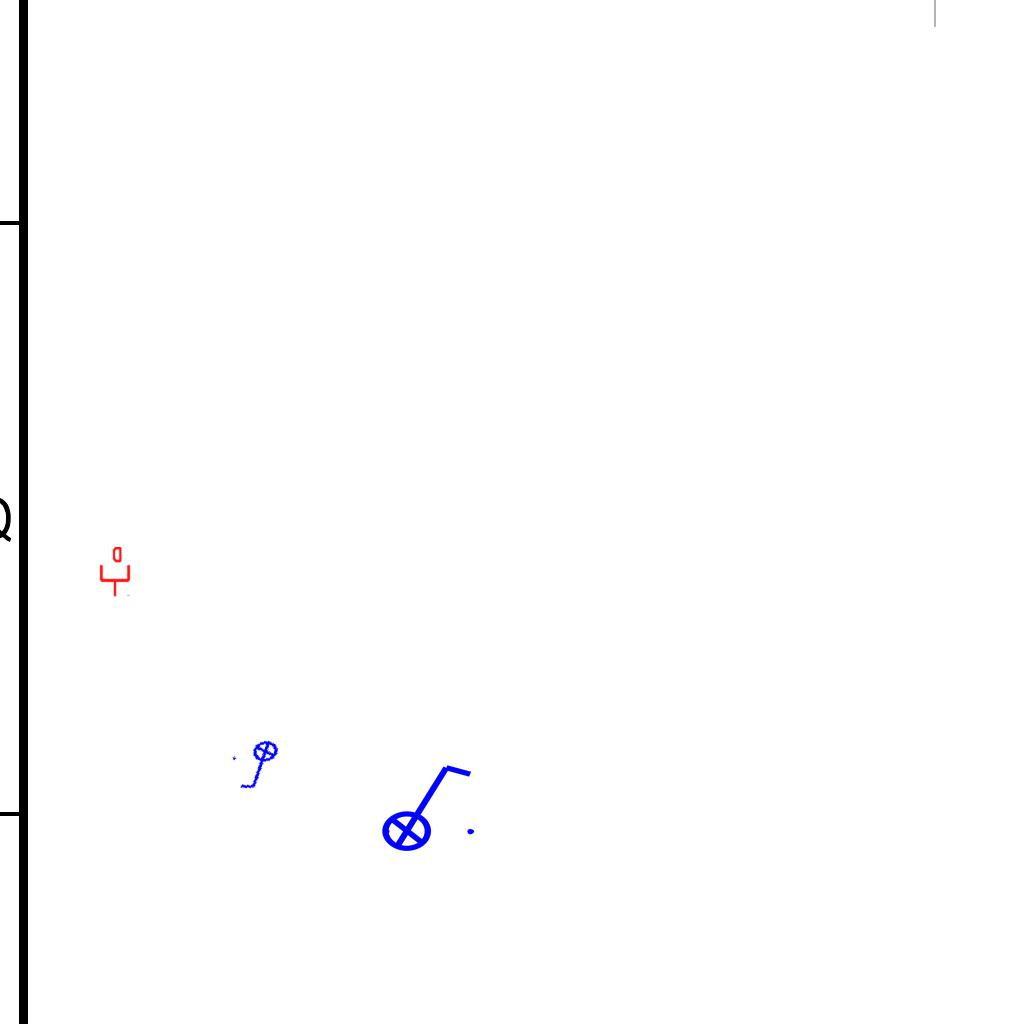Ausschalter_beleuchtet: (368, 757, 480, 853), (227, 736, 293, 796)
Datenanschluss_einfach: (98, 547, 132, 597)
